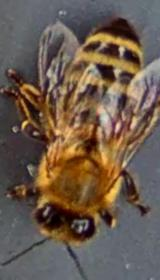varroa_mite: (104, 110, 132, 145)
